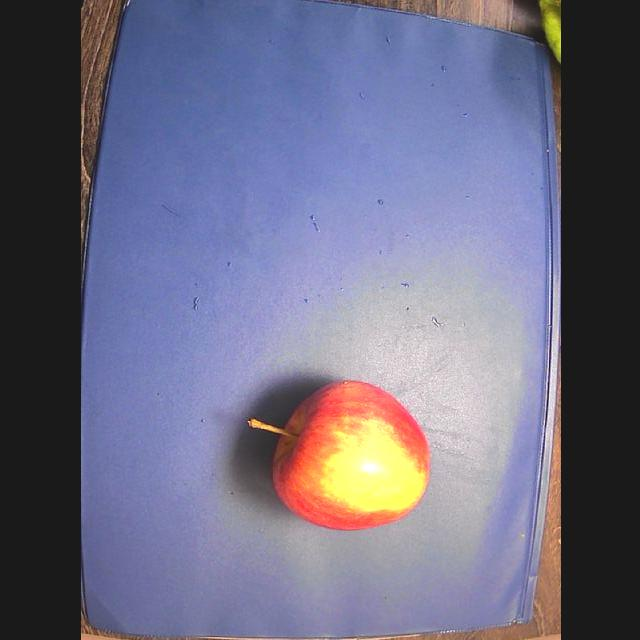manzana: (248, 381, 429, 530)
